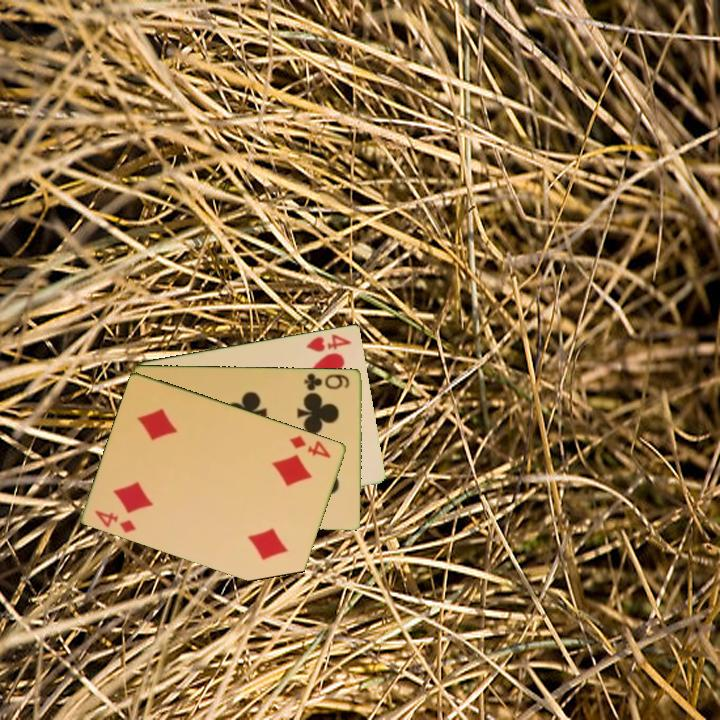4d: (92, 506, 139, 536), (286, 432, 334, 461)
4h: (303, 330, 354, 355)
6c: (301, 369, 352, 393)
